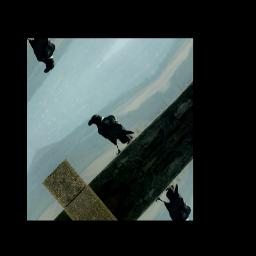Crow: (85, 100, 137, 158)
